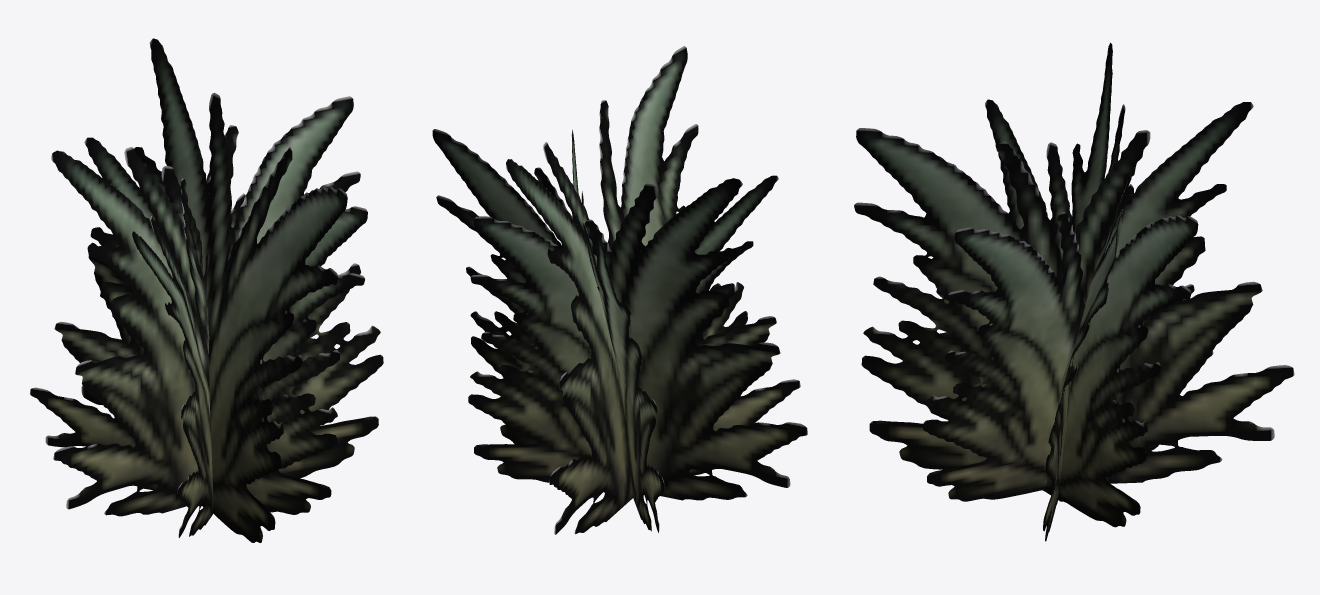
Rendered from SawGrass.fbx.
3 renders of one model, left to right at view 1: azimuth 30°, elevation 25°; view 2: azimuth 150°, elevation 25°; view 3: azimuth 270°, elevation 25°, orthographic. The views are drawn at different scales.
Visible parts, largest first — view 1: SawGrass; view 2: SawGrass; view 3: SawGrass.
Boxes of the visible parts, x1,y1,x2,y2 form: SawGrass: (30,38,383,542); SawGrass: (432,46,807,534); SawGrass: (854,42,1294,541).
Bounding box in the file's own units: 377 × 400 × 403.
Materials: 1 (1 with a texture image).
